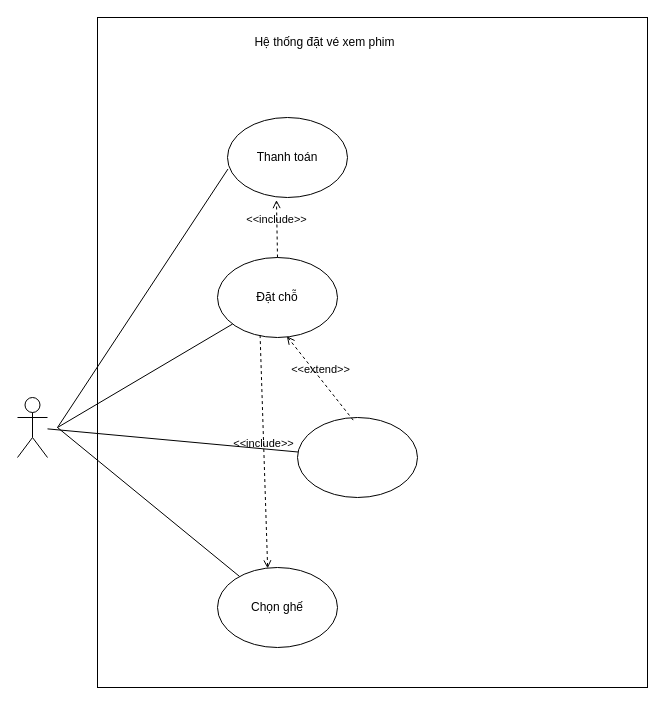
The diagram is 665 pixels wide and 705 high, and some of its shapes have lost their labels. Each missing label, with the box of its shape:
Actor: (16, 396, 48, 458)
Hủy vé: (296, 416, 418, 498)
